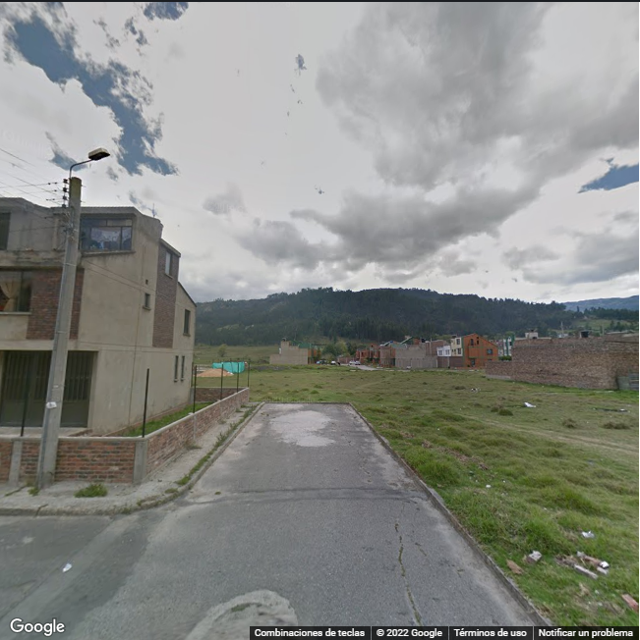D00: (452, 565, 509, 622), (391, 513, 415, 579)
